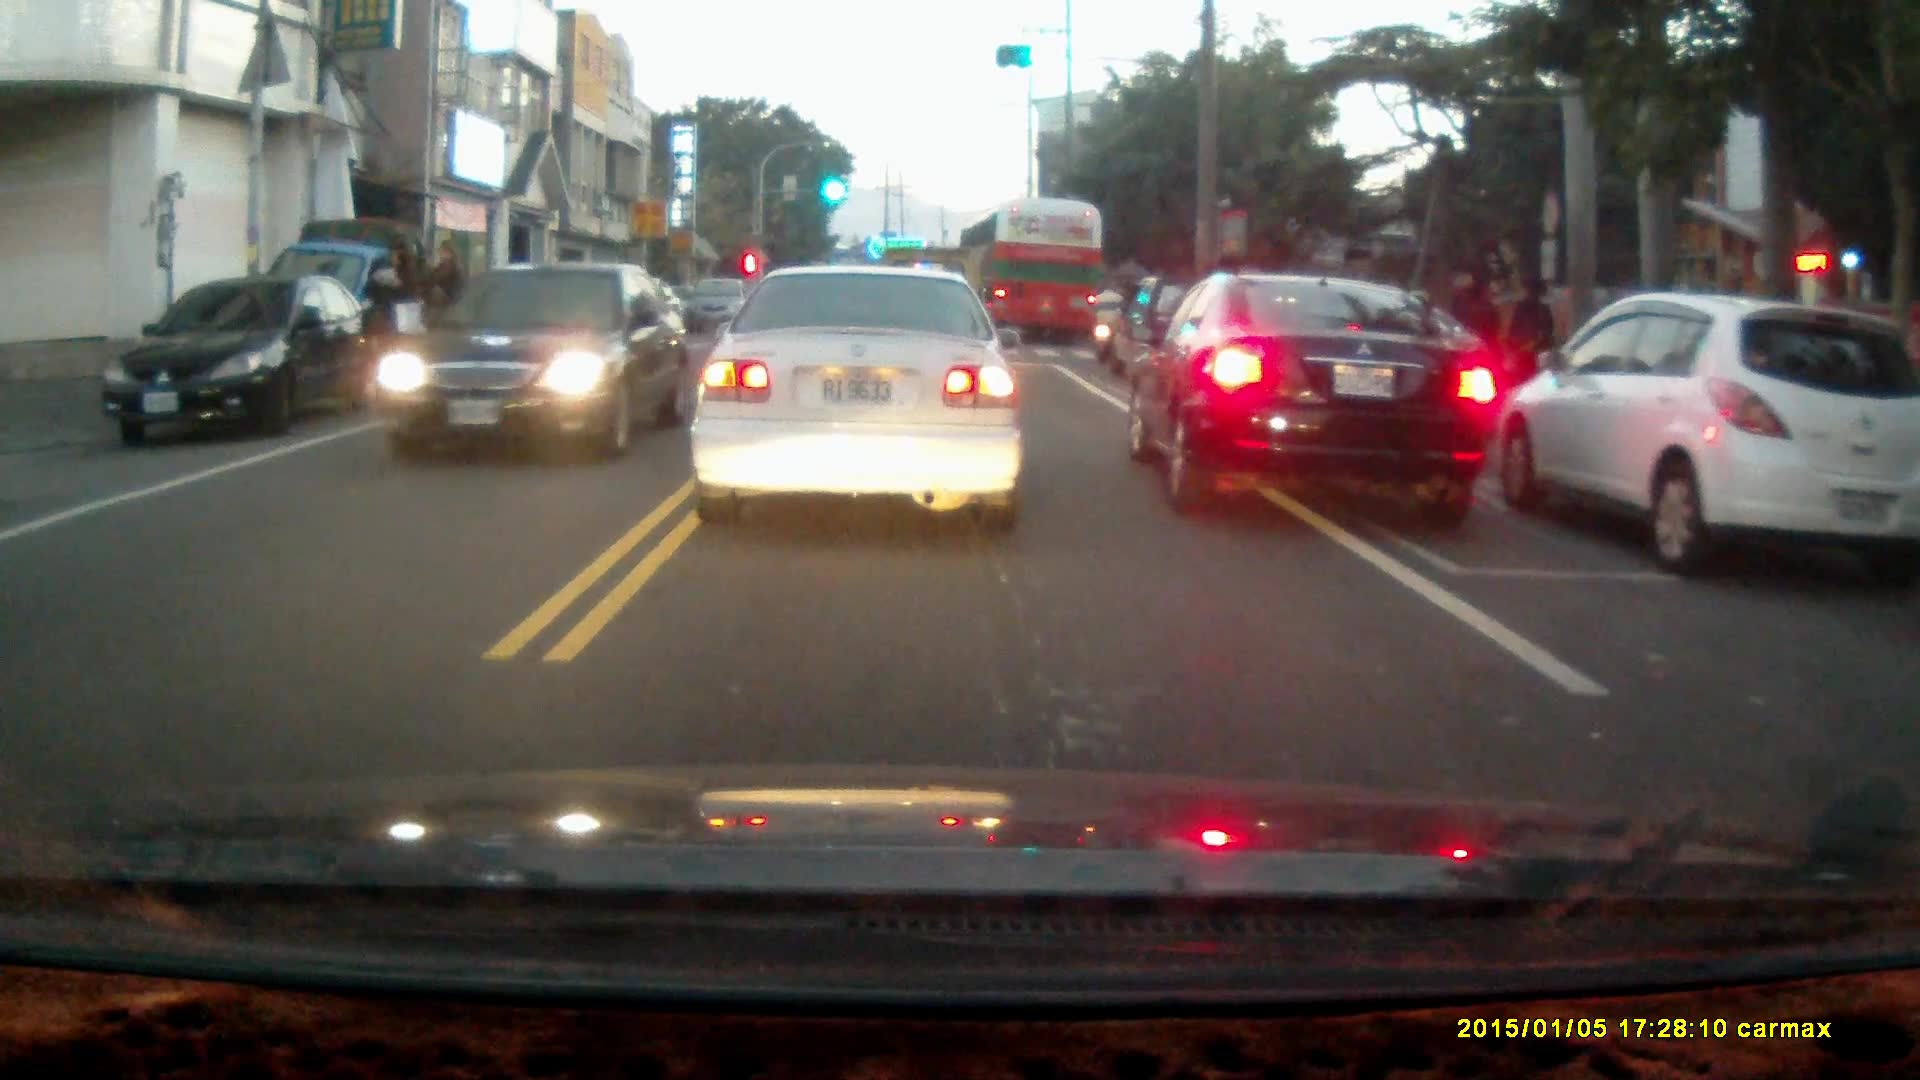pedestrian: (364, 245, 419, 401), (416, 238, 468, 387), (1503, 278, 1554, 408), (1451, 276, 1496, 398)
rider: (1087, 284, 1127, 365)
vehicle: (1484, 290, 1920, 576), (686, 263, 1028, 538), (1135, 275, 1502, 522), (378, 262, 688, 459), (100, 275, 362, 445), (252, 226, 468, 400), (961, 205, 1103, 351)
